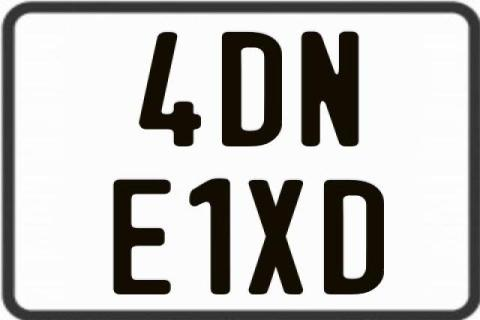0: (137, 31, 205, 148), (189, 178, 230, 294)
D: (321, 179, 386, 296), (221, 31, 281, 147)
E: (113, 177, 171, 295)
N: (301, 31, 362, 148)
X: (246, 179, 303, 293)
